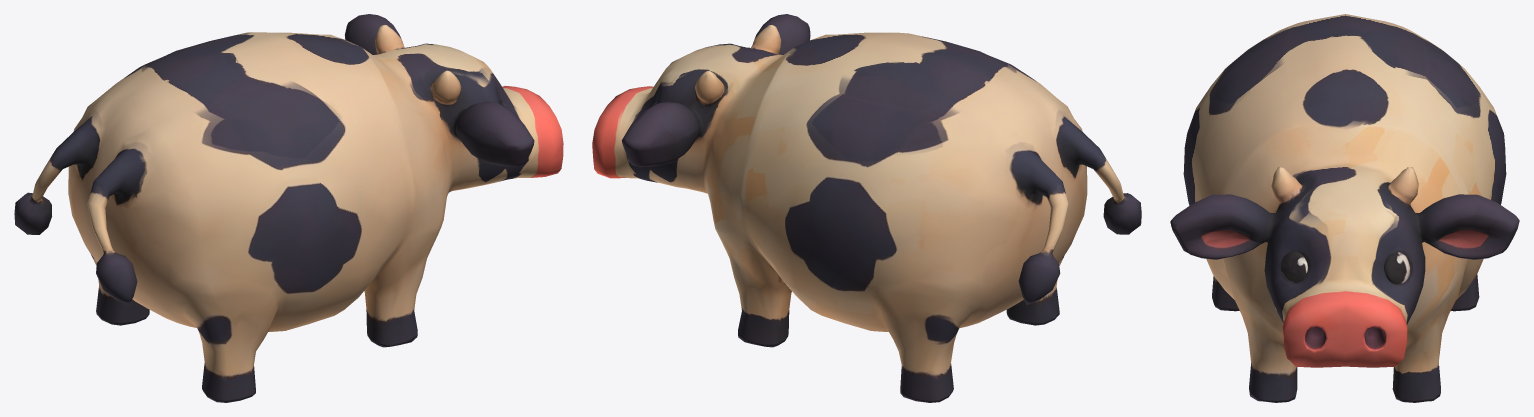
3 views of the same model, side by side, from view 1: azimuth 30°, elevation 25°; view 2: azimuth 150°, elevation 25°; view 3: azimuth 270°, elevation 25° (orthographic). The views are drawn at different scales.
Parts seen in each view (by area): view 1: tripo_node_6baf9f04-f49e-4d99-b7cd-f90880d6603b; view 2: tripo_node_6baf9f04-f49e-4d99-b7cd-f90880d6603b; view 3: tripo_node_6baf9f04-f49e-4d99-b7cd-f90880d6603b.
Part boxes in pixels (x1,y1,x2,y2): tripo_node_6baf9f04-f49e-4d99-b7cd-f90880d6603b: (14, 14, 563, 402); tripo_node_6baf9f04-f49e-4d99-b7cd-f90880d6603b: (592, 14, 1141, 402); tripo_node_6baf9f04-f49e-4d99-b7cd-f90880d6603b: (1170, 14, 1519, 402).
Bounding box in the file's own units: 0.998 × 0.5684 × 0.6074.
1 material, 1 textured.
